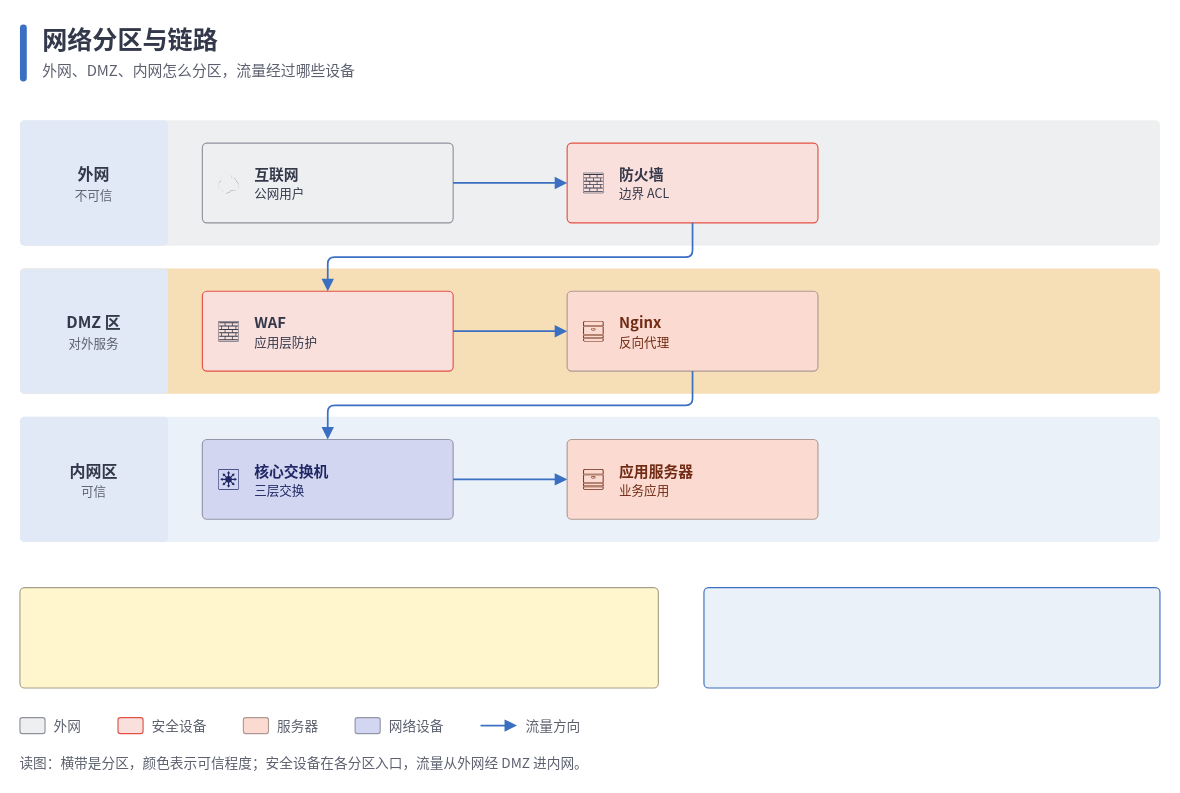
This 1180x793 diagram has some shape labels left out. The shapes that lost their labels are listed below. From the top down, each one's centre as x and y in pixels, then its label:
the point at 338,637: 安全边界 防火墙在外网与 DMZ 之间，只放行 80 / 443 DMZ 到内网只允许 Nginx 访问应用端口
the point at 931,637: 不在这张图里 办公网与 VPN 带外管理网
